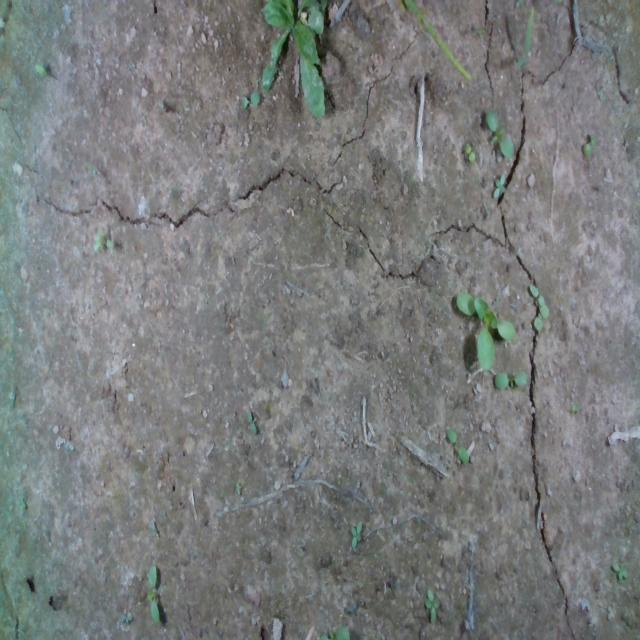weed: (483, 108, 515, 156), (444, 426, 470, 463), (94, 227, 125, 257), (580, 133, 606, 163), (493, 371, 529, 389), (606, 557, 628, 586), (348, 520, 366, 553), (28, 58, 50, 85), (492, 171, 508, 207), (423, 584, 440, 617), (460, 140, 477, 166)
